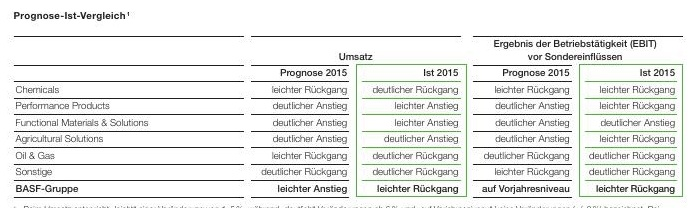table: (0, 0, 693, 208)
